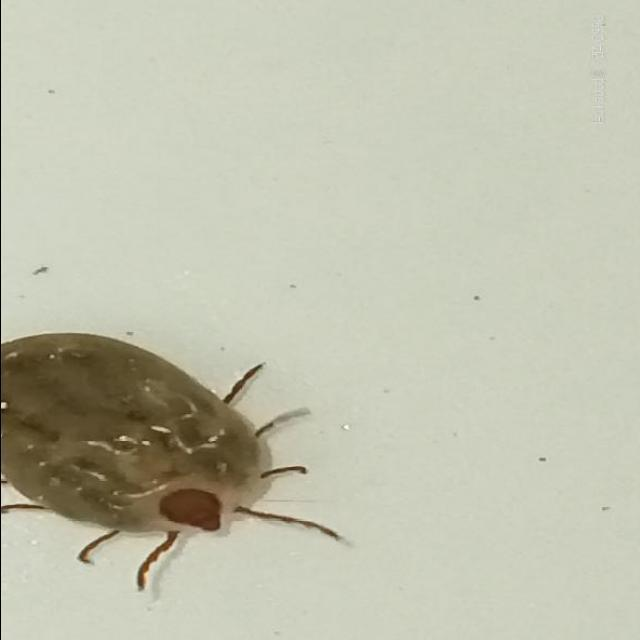Rhipicephalus Sanguineus-F-Fed: (0, 331, 352, 592)
